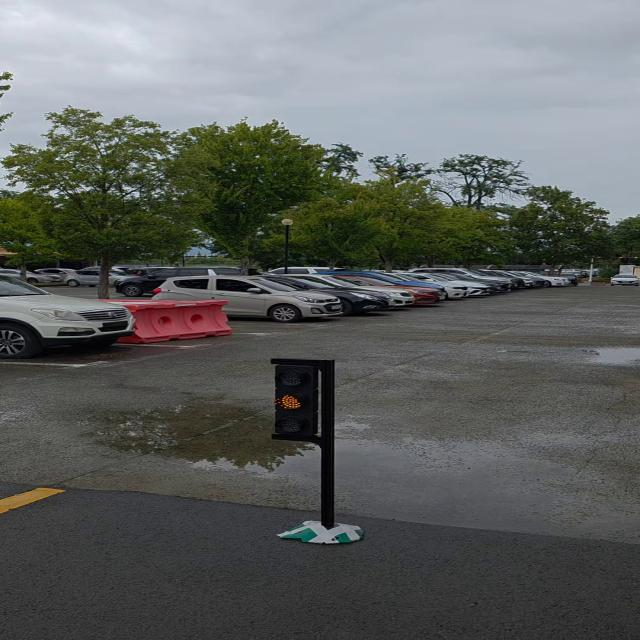yellow: (270, 358, 324, 442)
